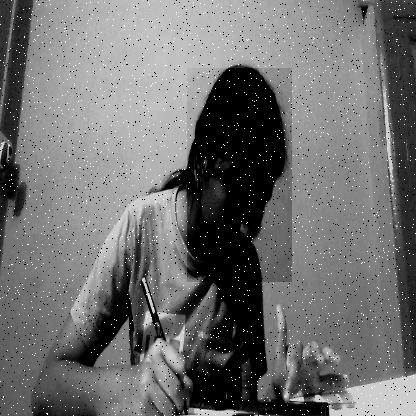Distracted: (187, 68, 292, 282)
